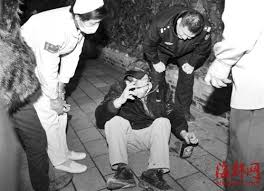fall: (96, 56, 194, 191)
